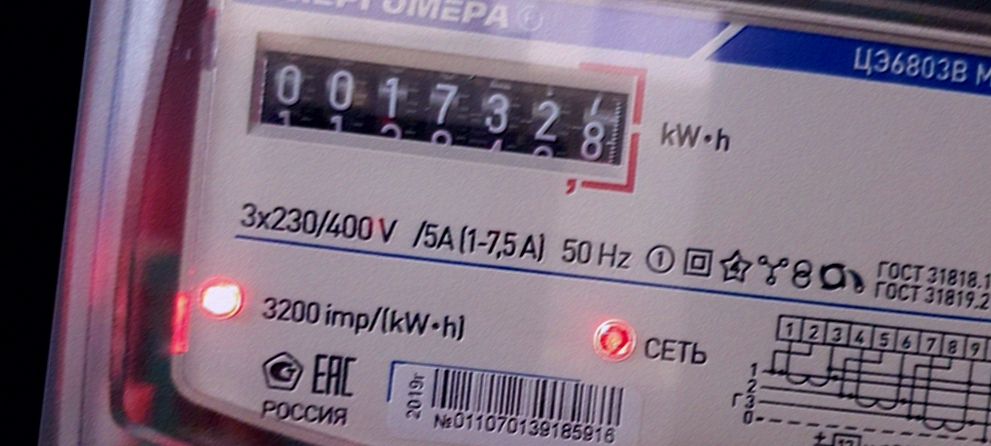0: (270, 62, 308, 109), (324, 66, 358, 114)
1: (378, 73, 405, 122)
2: (529, 97, 563, 145)
3: (481, 90, 513, 137)
7: (428, 81, 459, 130)
8: (576, 118, 607, 163)
screen: (233, 24, 656, 200)
